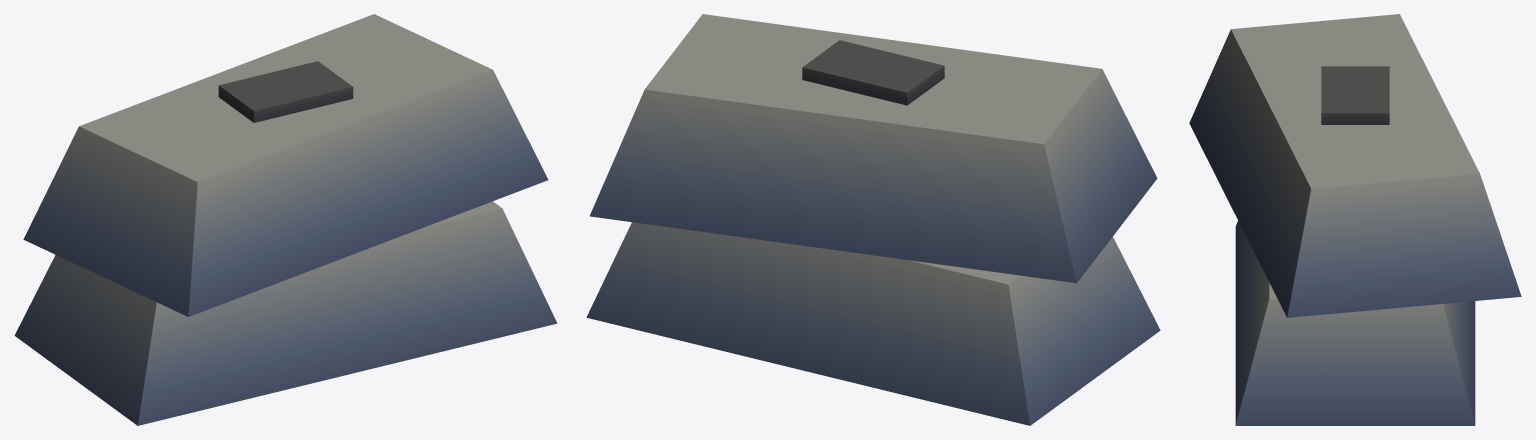
The model's file is item_iron_ingot.glb.
3 views of the same model, side by side, from view 1: azimuth 30°, elevation 25°; view 2: azimuth 150°, elevation 25°; view 3: azimuth 270°, elevation 25° (orthographic). The views are drawn at different scales.
Visible parts, largest first — view 1: item_iron_ingot; view 2: item_iron_ingot; view 3: item_iron_ingot.
Boxes of the visible parts, bbox=[...] form: item_iron_ingot: bbox=[14, 14, 557, 425]; item_iron_ingot: bbox=[586, 14, 1160, 425]; item_iron_ingot: bbox=[1189, 14, 1521, 425].
Size of the model in its own units: 1.19 by 0.61 by 0.7765.
Materials: 1 (1 with a texture image).
